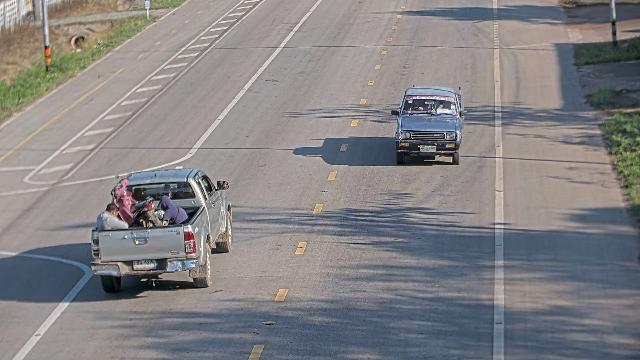pickup-truck: (89, 166, 233, 293), (390, 84, 467, 165)
